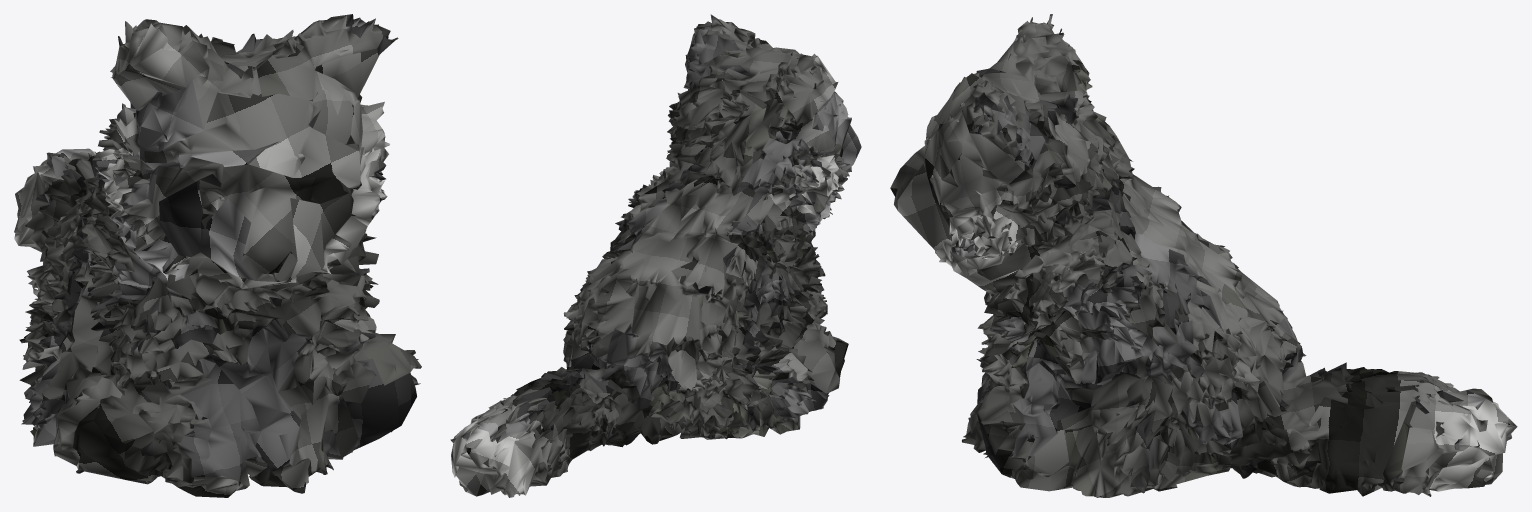
The model's file is Racoon-low.glb.
3 views of the same model, side by side, from view 1: azimuth 30°, elevation 25°; view 2: azimuth 150°, elevation 25°; view 3: azimuth 270°, elevation 25° (orthographic). The views are drawn at different scales.
Visible parts, largest first — view 1: Racoon; view 2: Racoon; view 3: Racoon.
Part boxes in pixels (left/top/right/bottom): Racoon: left=14, top=14, right=421, bottom=497; Racoon: left=450, top=14, right=861, bottom=497; Racoon: left=890, top=14, right=1517, bottom=497.
Size of the model in its own units: 0.1505 by 0.2108 by 0.3131.
Materials: 1 (1 with a texture image).
